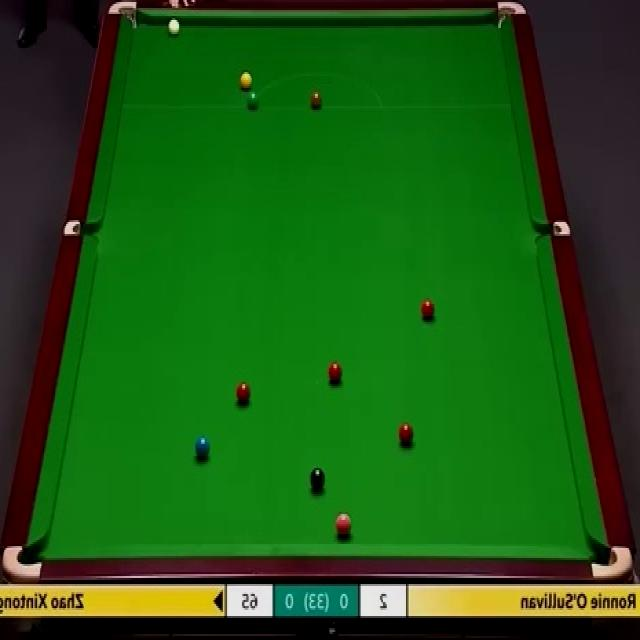pocket: (2, 543, 44, 583), (591, 543, 634, 579), (495, 0, 531, 34), (107, 0, 142, 32), (62, 220, 103, 235), (535, 220, 573, 235)
